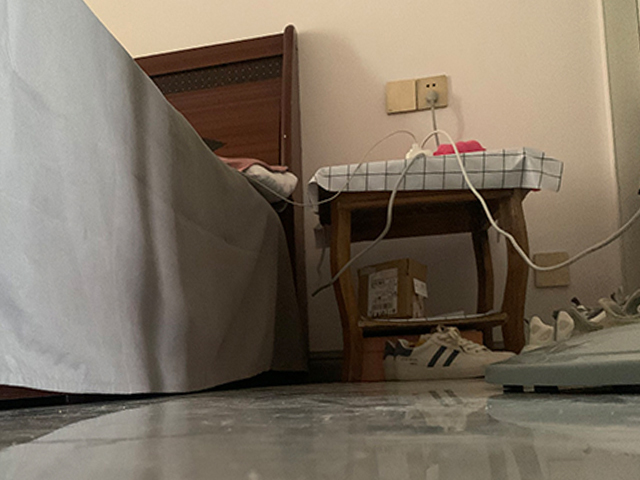bed: (1, 1, 311, 399)
table: (315, 146, 532, 385)
wire: (330, 121, 510, 240)
